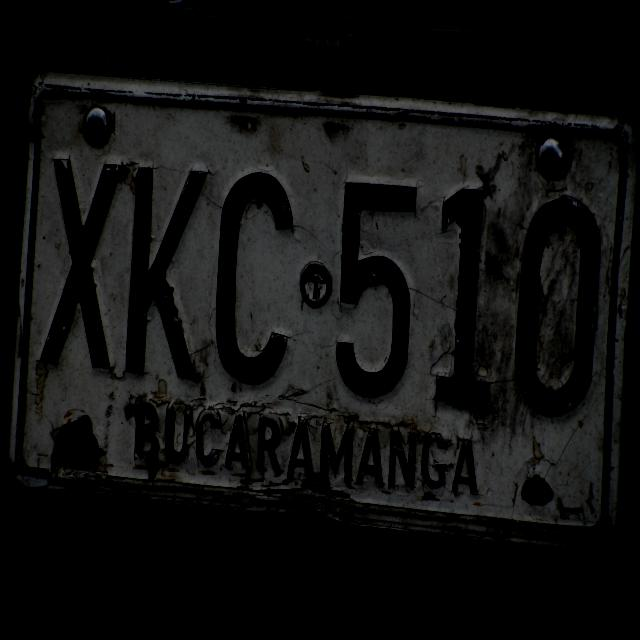placa: (4, 64, 636, 558)
